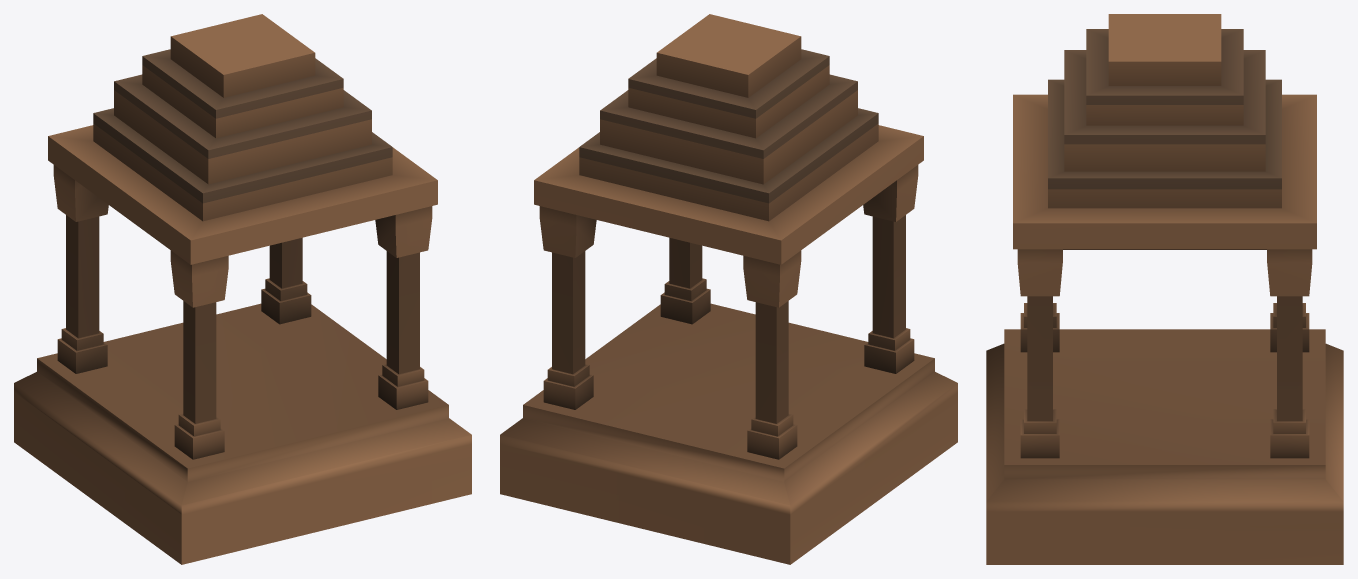
File: Ruins_TempleRuins_alt09.glb
3 views of the same model, side by side, from view 1: azimuth 30°, elevation 25°; view 2: azimuth 150°, elevation 25°; view 3: azimuth 270°, elevation 25° (orthographic). The views are drawn at different scales.
Parts seen in each view (by area): view 1: base165; view 2: base165; view 3: base165.
Part boxes in pixels (x1=…): base165: x1=14, y1=14, x2=471, y2=564; base165: x1=500, y1=14, x2=957, y2=564; base165: x1=986, y1=14, x2=1343, y2=564.
Size of the model in its own units: 6.98 by 9.73 by 6.98.
